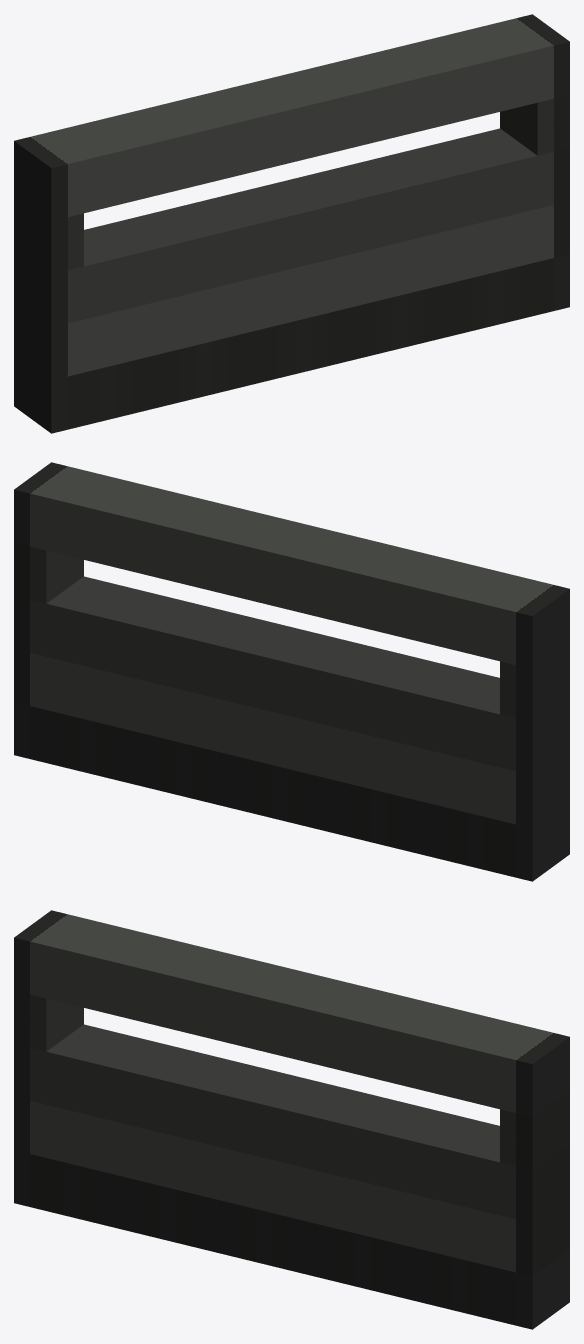
Rendered from CMU3DHybrisaWindowShutterOpen.glb.
The picture shows the model from 3 angles, top to bottom: view 1: azimuth 30°, elevation 25°; view 2: azimuth 150°, elevation 25°; view 3: azimuth 330°, elevation 25°; orthographic projection.
Parts seen in each view (by area): view 1: opaque source rectangle 0:0:32:1, opaque source rectangle 0:2:32:1, opaque source rectangle 0:4:32:1, opaque source rectangle 0:3:32:1, opaque source rectangle 0:1:2:1, opaque source rectangle 30:1:2:1; view 2: opaque source rectangle 0:0:32:1, opaque source rectangle 0:2:32:1, opaque source rectangle 0:4:32:1, opaque source rectangle 0:3:32:1, opaque source rectangle 0:1:2:1, opaque source rectangle 30:1:2:1; view 3: opaque source rectangle 0:0:32:1, opaque source rectangle 0:2:32:1, opaque source rectangle 0:4:32:1, opaque source rectangle 0:3:32:1, opaque source rectangle 30:1:2:1, opaque source rectangle 0:1:2:1.
Part boxes in pixels (box(x1,y1,x2,y2)): opaque source rectangle 0:0:32:1: box(14, 14, 569, 221); opaque source rectangle 0:2:32:1: box(14, 128, 569, 327); opaque source rectangle 0:4:32:1: box(14, 254, 569, 433); opaque source rectangle 0:3:32:1: box(14, 201, 569, 380); opaque source rectangle 0:1:2:1: box(14, 194, 83, 274); opaque source rectangle 30:1:2:1: box(500, 95, 569, 155); opaque source rectangle 0:0:32:1: box(14, 462, 569, 669); opaque source rectangle 0:2:32:1: box(14, 576, 569, 775); opaque source rectangle 0:4:32:1: box(14, 702, 569, 881); opaque source rectangle 0:3:32:1: box(14, 649, 569, 828); opaque source rectangle 0:1:2:1: box(500, 642, 569, 722); opaque source rectangle 30:1:2:1: box(14, 543, 83, 603); opaque source rectangle 0:0:32:1: box(14, 910, 569, 1117); opaque source rectangle 0:2:32:1: box(14, 1024, 569, 1223); opaque source rectangle 0:4:32:1: box(14, 1150, 569, 1329); opaque source rectangle 0:3:32:1: box(14, 1097, 569, 1276); opaque source rectangle 30:1:2:1: box(500, 1090, 569, 1170); opaque source rectangle 0:1:2:1: box(14, 991, 83, 1051).
Size of what is drawn, in the model's own units: 1 by 0.4893 by 0.125.
Materials: 6 (6 with a texture image).
